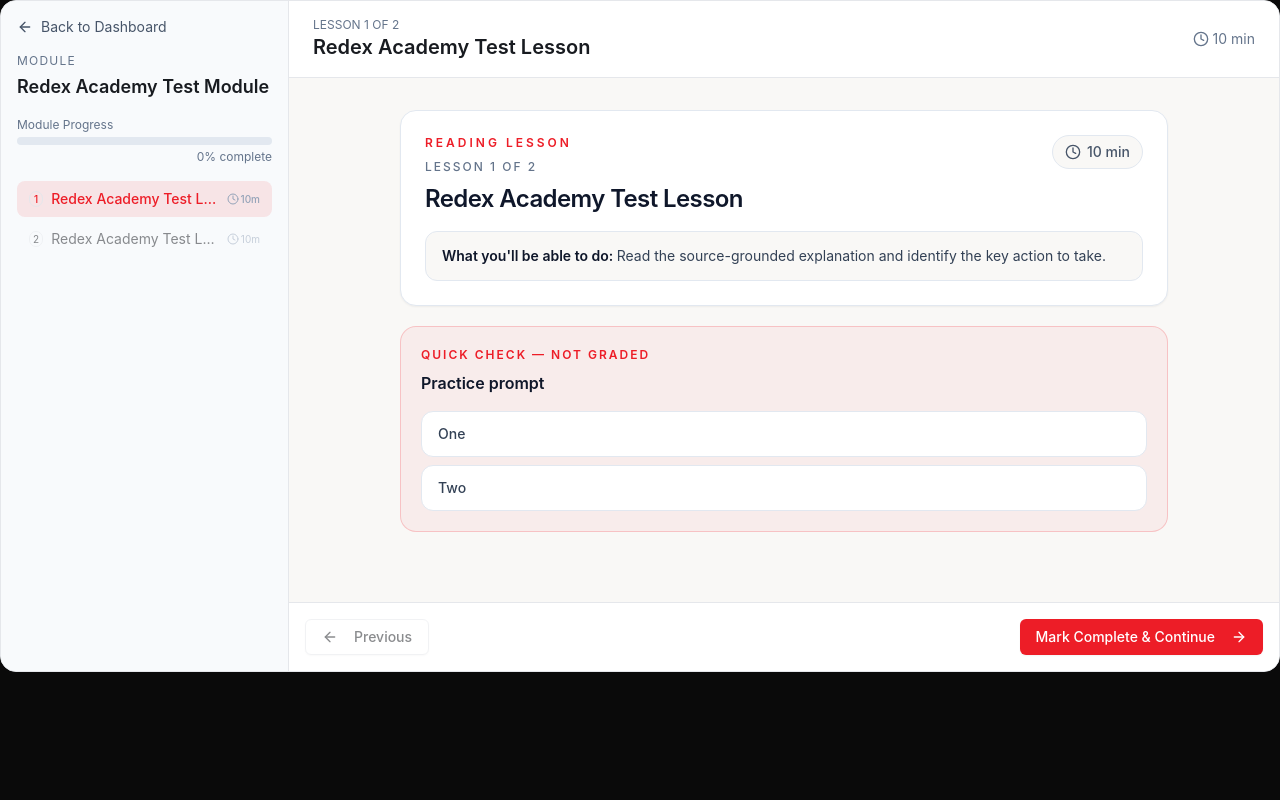
Redex Academy learner module player › keeps structured text lessons manually completable and unlocked
Click the button "Mark Complete & Continue" at (1141, 637), box [1020,619,1263,655]
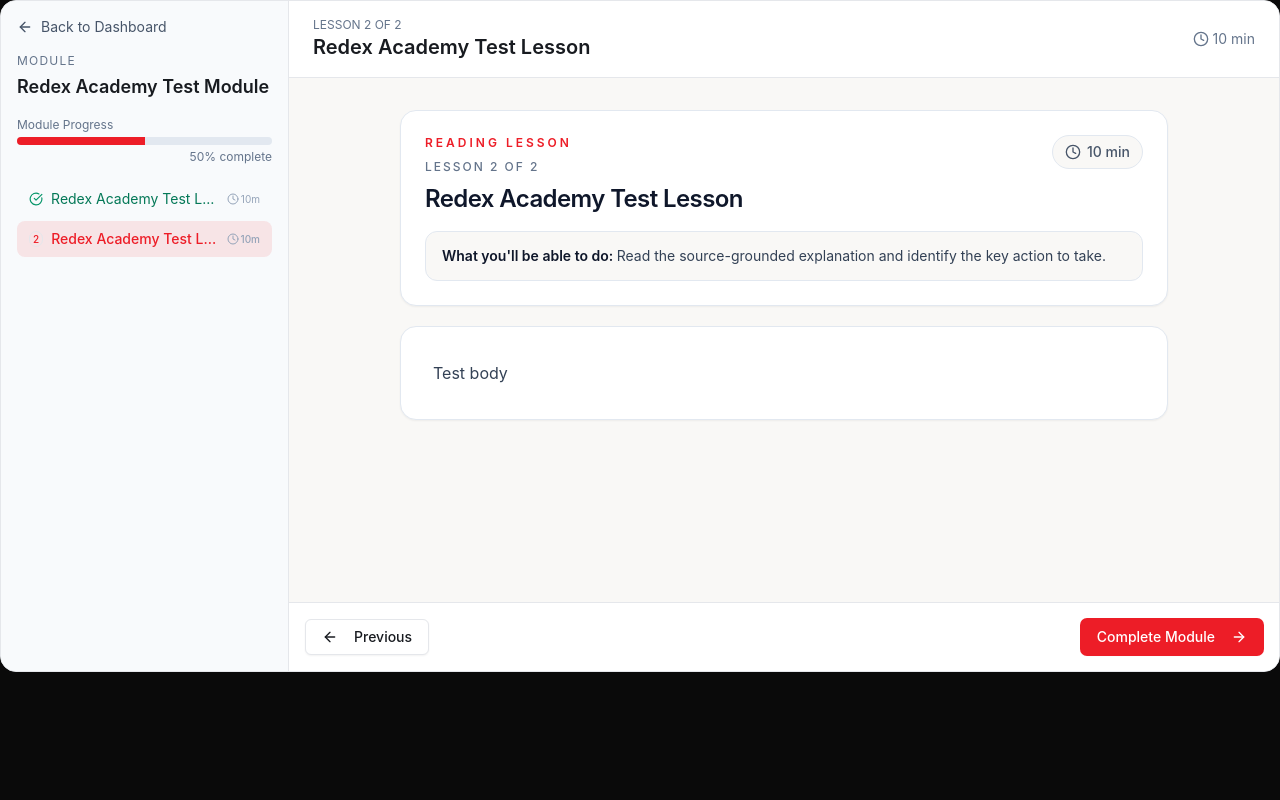
Result: the text "LESSON 2 OF 2" is shown at [313,17,402,32]
